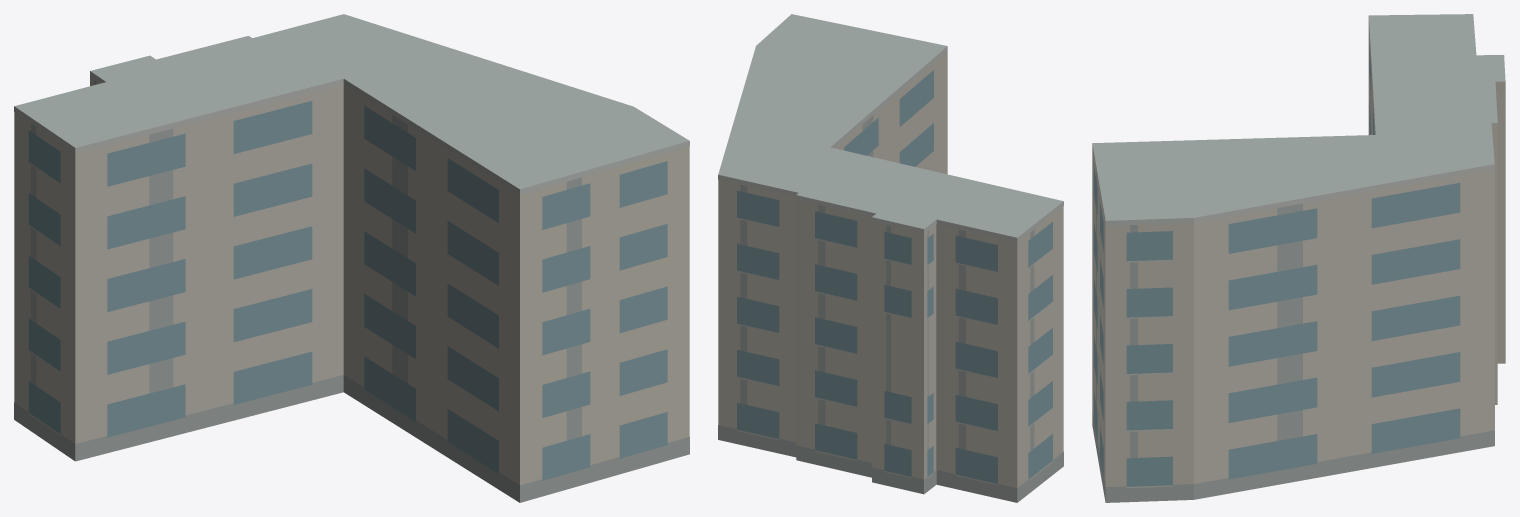
File: survey-upis-32876234.glb
The picture shows the model from 3 angles, left to right: view 1: azimuth 30°, elevation 25°; view 2: azimuth 150°, elevation 25°; view 3: azimuth 270°, elevation 25°; orthographic projection. The views are drawn at different scales.
Visible parts, largest first — view 1: survey-upis-32876234.tmp; view 2: survey-upis-32876234.tmp; view 3: survey-upis-32876234.tmp.
Part boxes in pixels (left/top/right/bottom): survey-upis-32876234.tmp: left=14, top=14, right=689, bottom=502; survey-upis-32876234.tmp: left=718, top=14, right=1063, bottom=502; survey-upis-32876234.tmp: left=1092, top=14, right=1505, bottom=502.
Bounding box in the file's own units: 21.09 × 13.4 × 17.81.
